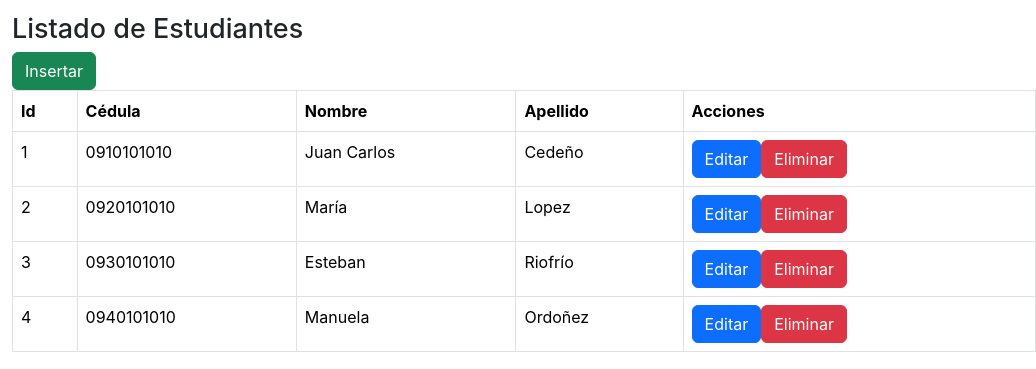
Test case: Componente Estudiantes › Eliminar un estudiante
This screenshot has width=1036, height=369.
Click the button "Eliminar" in the row of "0910101010".
click(804, 159)  # box [761, 140, 847, 178]
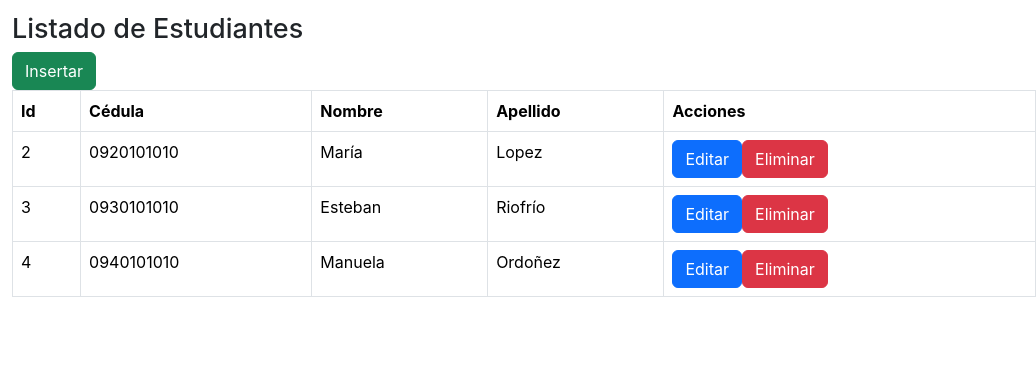
Now the text "Juan Carlos" is gone
